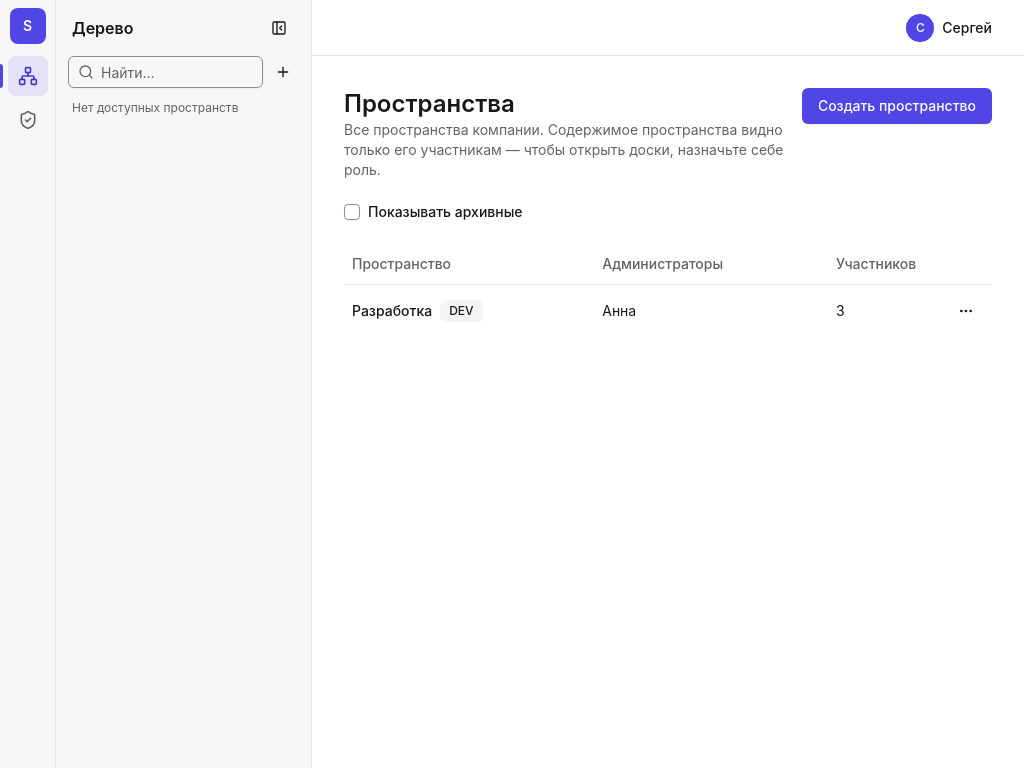
Админка: пространства › назначает роль себе
The width and height of the screenshot is (1024, 768).
Step 1. Click the button named "Действия с пространством «" → {"x": 966, "y": 310}, box [948,292,984,328]
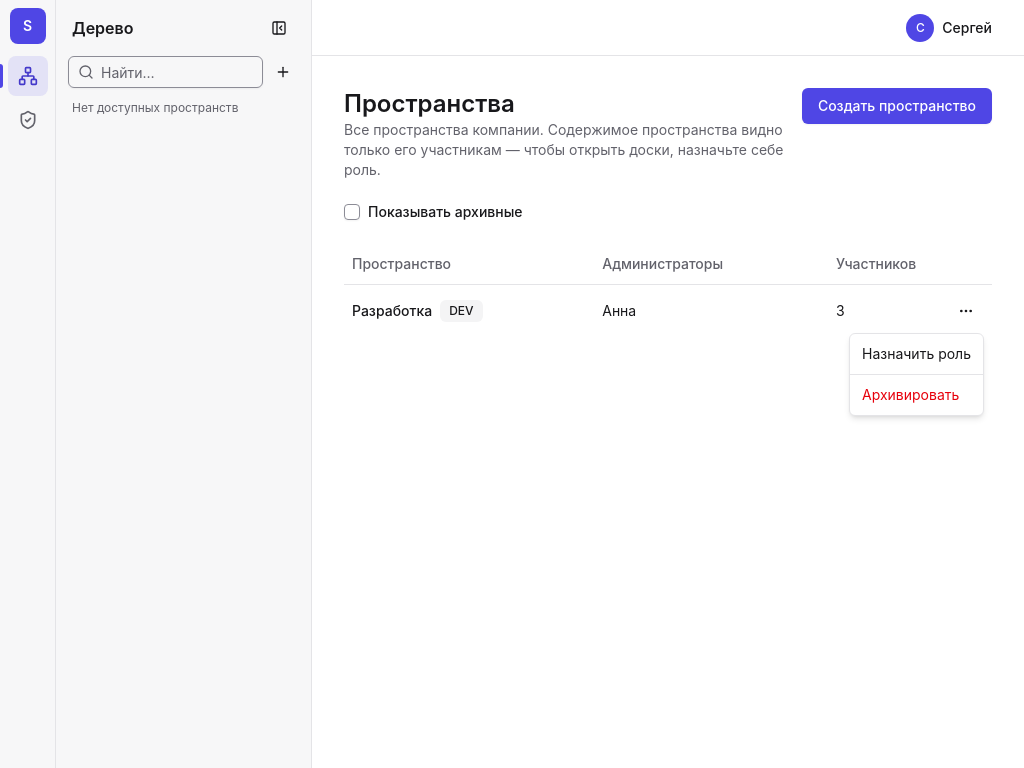
Step 2. Click the menu item "Назначить роль" → {"x": 916, "y": 354}, box [862,345,971,362]
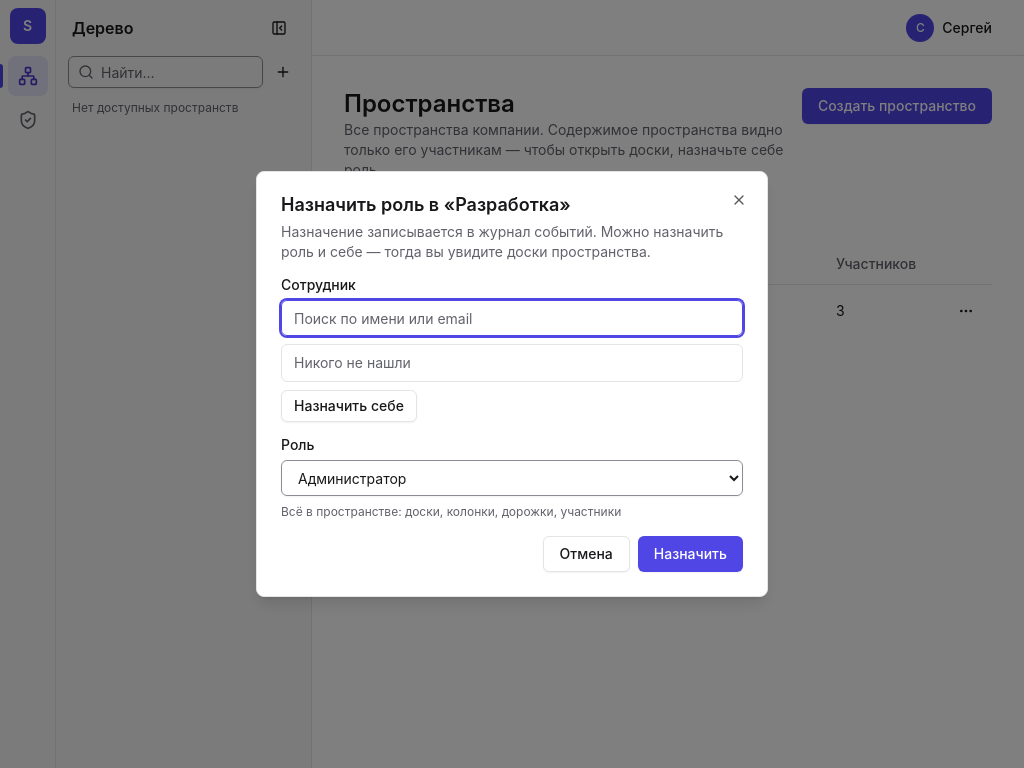
Step 3. Click the button "Назначить себе" → {"x": 349, "y": 406}, box [281,390,417,422]
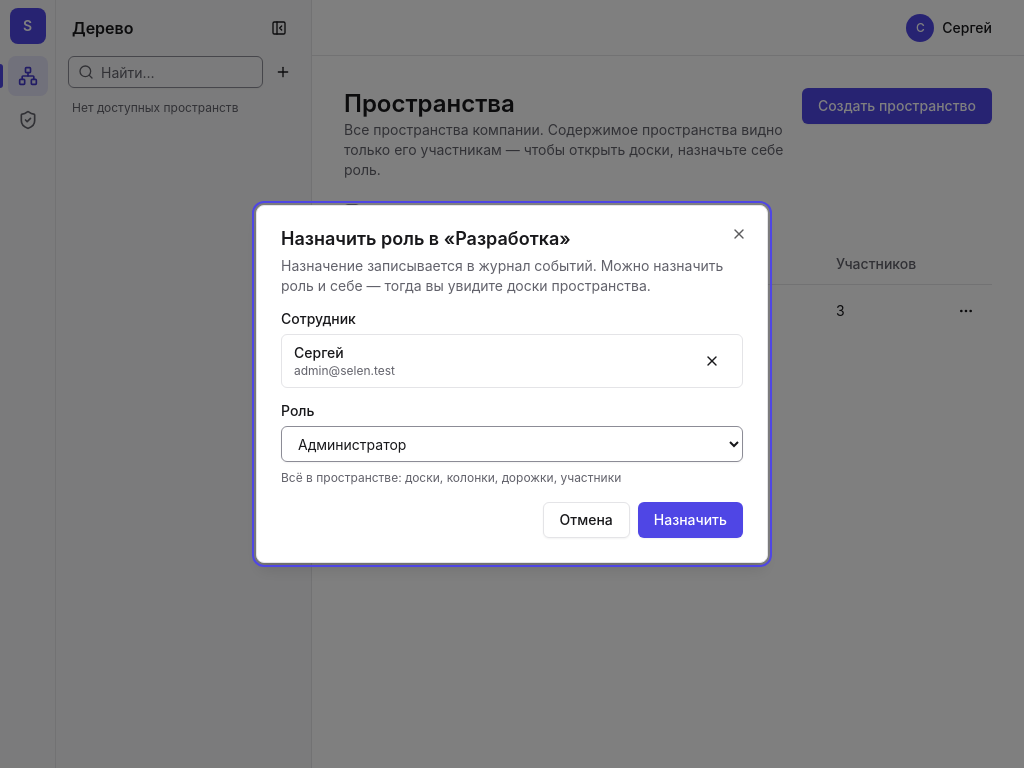
Step 4. Select "Комментатор" in the dropdown labelled "Роль" → {"x": 512, "y": 444}, box [281,426,743,462]
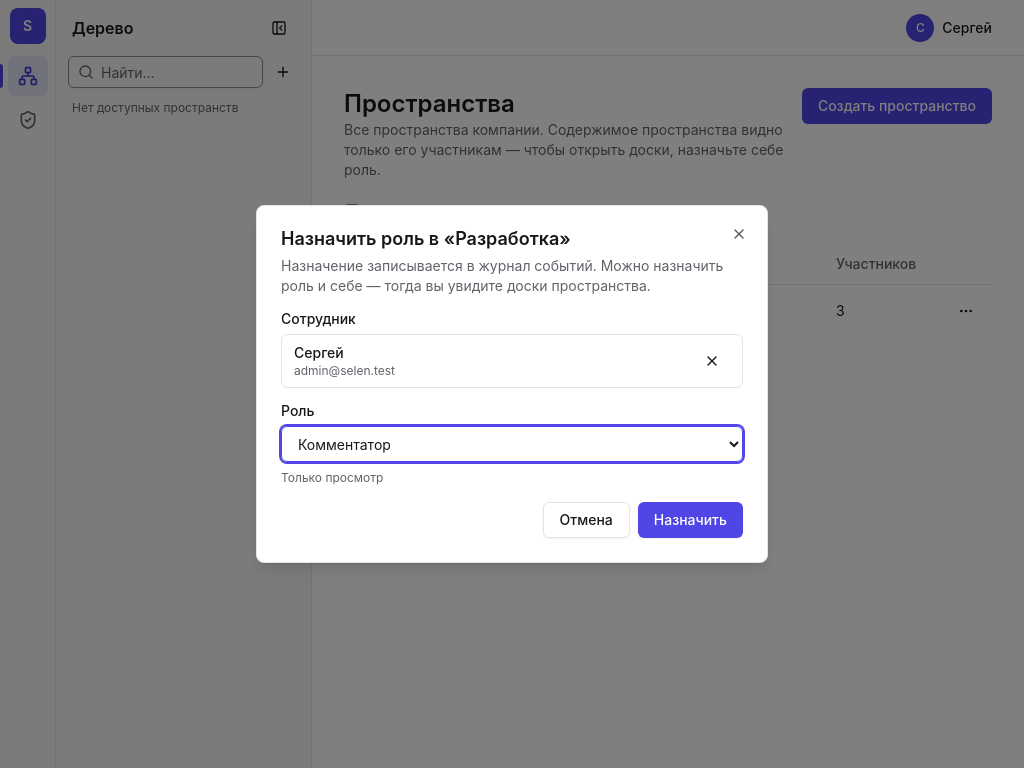
Step 5. Click the button "Назначить" → {"x": 690, "y": 520}, box [638,502,743,538]
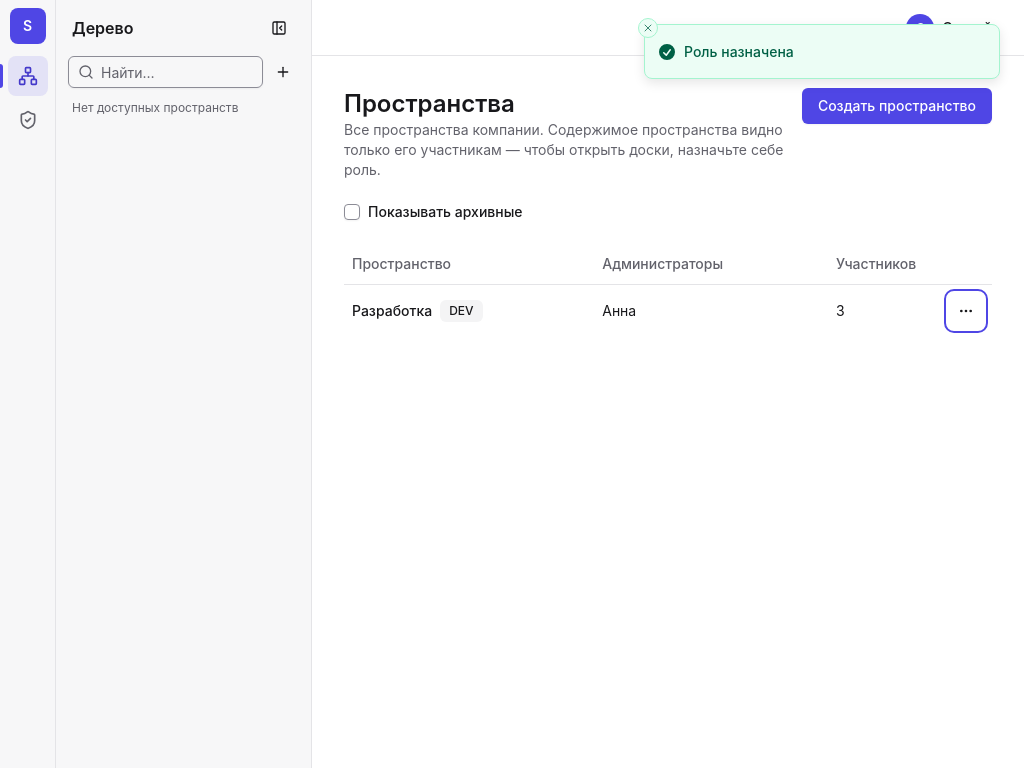
Check: the text "Роль назначена" is shown, box [684,41,794,62]
